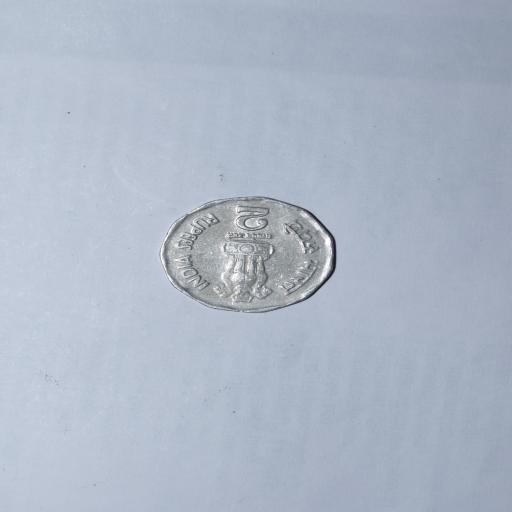rupee2: (159, 197, 338, 314)
